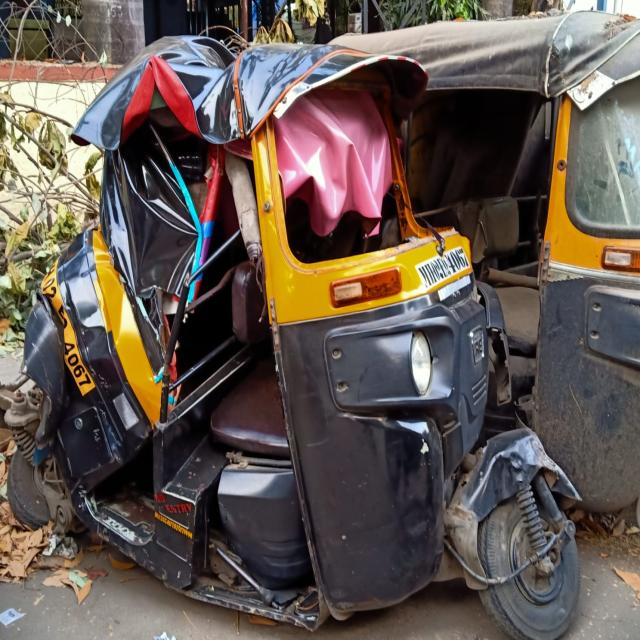accident: (0, 37, 579, 637)
